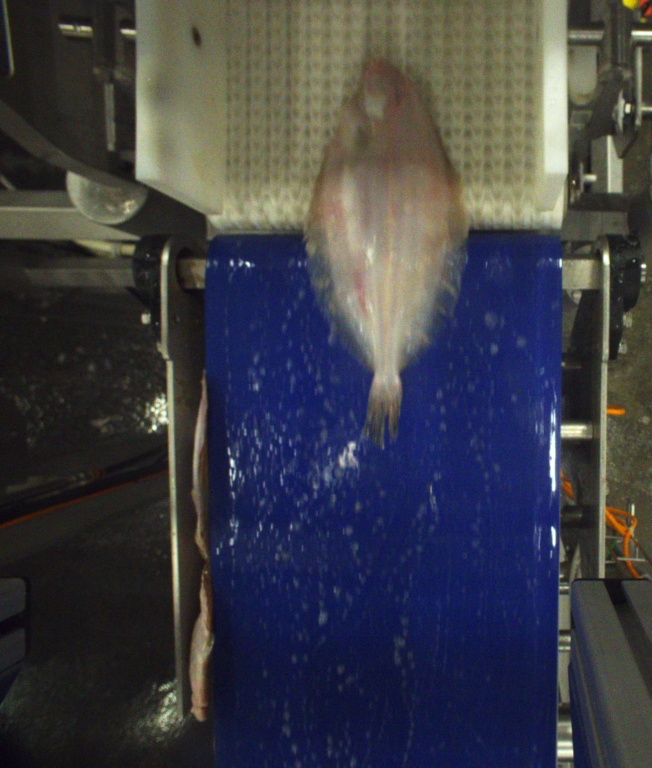WIT: (304, 58, 464, 441)
